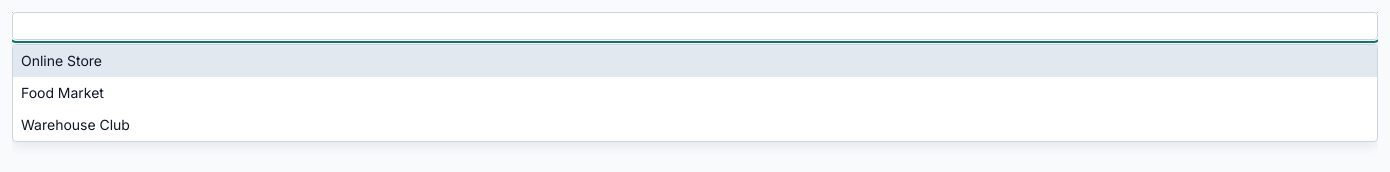
Test: Typeahead › filters by case-insensitive substring
In the dropdown: (695, 26) x1=12 y1=12 x2=1378 y2=40, type "foo"
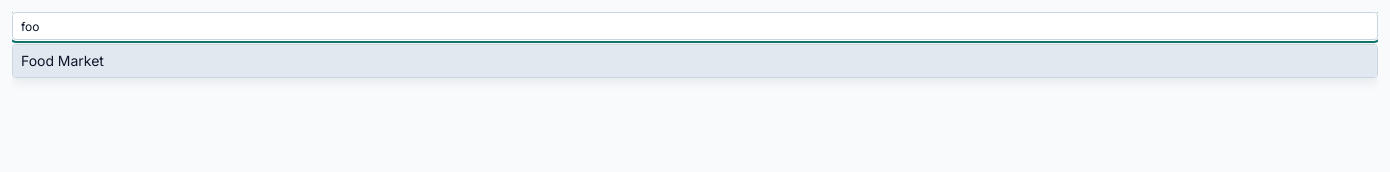
Expected: the option "Food Market" is shown, x1=13 y1=45 x2=1377 y2=77
Now the option "Online Store" is gone
